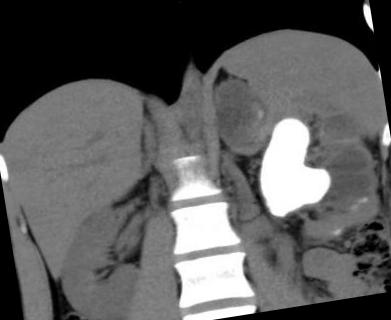Tas_Var: (246, 110, 345, 219)
